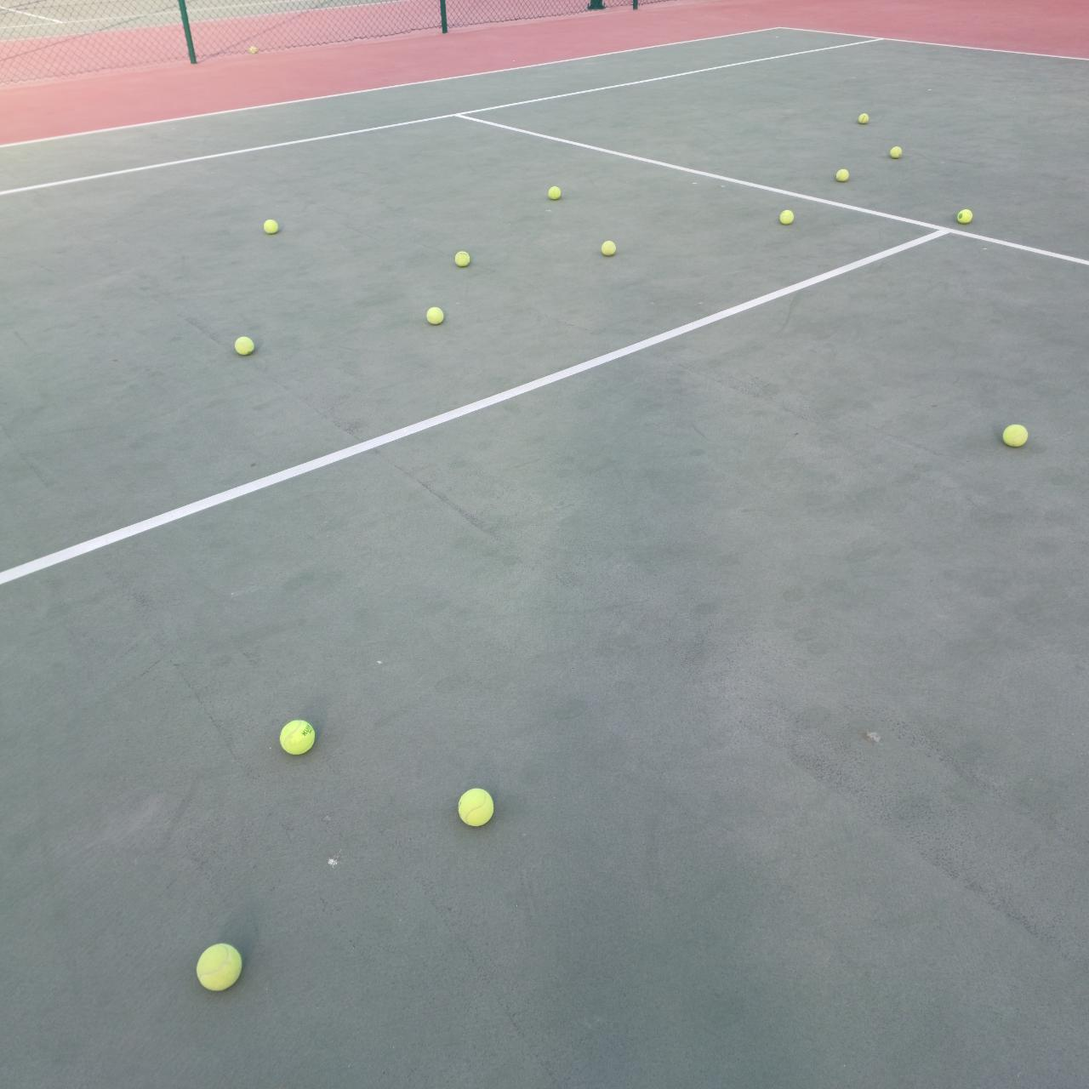tennis-ball: (194, 940, 243, 991), (456, 785, 495, 827), (277, 716, 316, 755), (1001, 421, 1029, 447), (233, 334, 255, 356), (425, 305, 444, 325), (261, 216, 279, 234), (453, 248, 470, 267), (599, 237, 616, 256), (778, 208, 794, 225), (955, 207, 972, 223), (546, 184, 561, 200), (833, 167, 848, 182), (887, 144, 902, 158), (856, 111, 869, 124)
